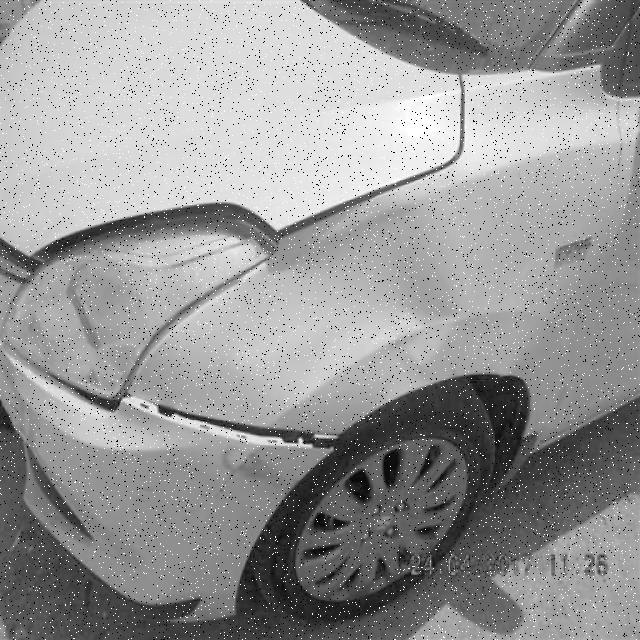car damage: (235, 201, 463, 401), (117, 393, 335, 452), (221, 444, 294, 487)
